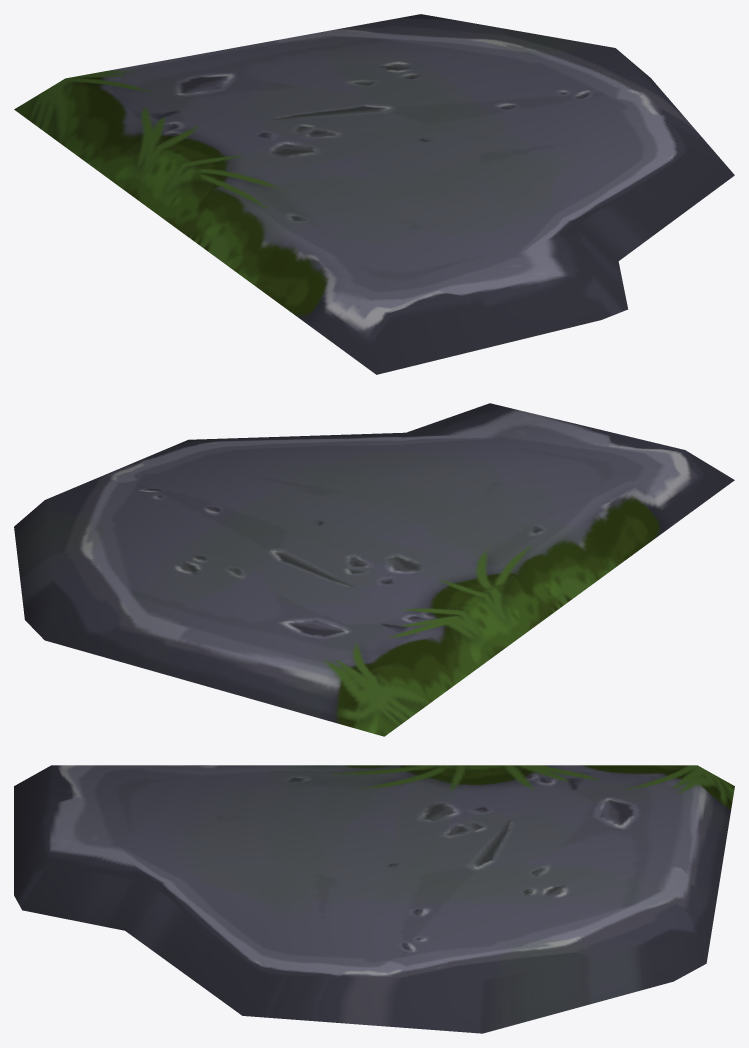
The model's file is MOD_Floor_01_O_singlestone_broken_3.fbx.
3 renders of one model, top to bottom at view 1: azimuth 30°, elevation 25°; view 2: azimuth 150°, elevation 25°; view 3: azimuth 270°, elevation 25°, orthographic. The views are drawn at different scales.
Parts seen in each view (by area): view 1: MOD_Floor_01_O_singlestone_broken_3; view 2: MOD_Floor_01_O_singlestone_broken_3; view 3: MOD_Floor_01_O_singlestone_broken_3.
Boxes of the visible parts, <box> form: MOD_Floor_01_O_singlestone_broken_3: <box>14,14,734,374</box>; MOD_Floor_01_O_singlestone_broken_3: <box>14,403,734,736</box>; MOD_Floor_01_O_singlestone_broken_3: <box>14,765,734,1033</box>.
Bounding box in the file's own units: 81.21 × 5.62 × 100.
